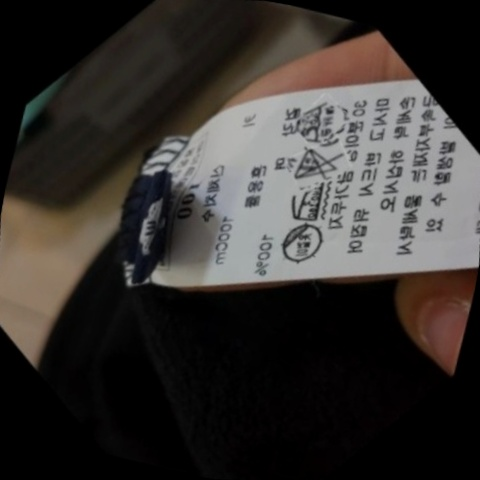hand_wash: (287, 86, 351, 154)
iron_medium: (277, 172, 334, 230)
line_dry_in_shade: (264, 207, 337, 279)
non_chlorine_bleach: (285, 137, 348, 194)
